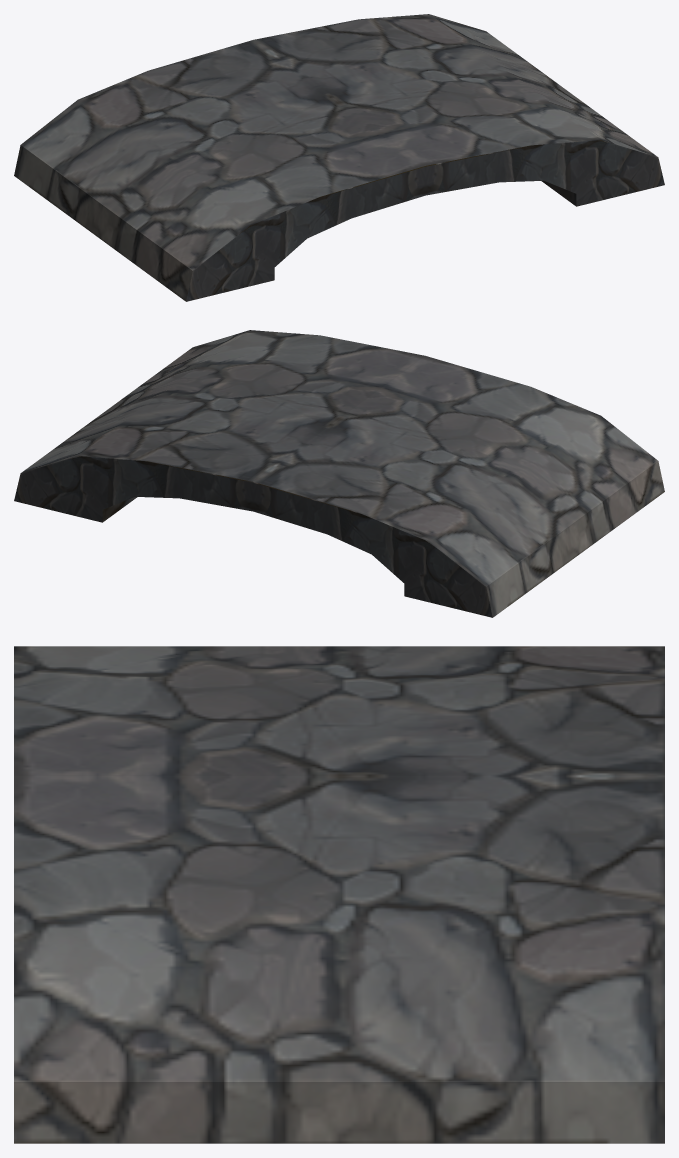
Rendered from bridge.fbx.
3 renders of one model, top to bottom at view 1: azimuth 30°, elevation 25°; view 2: azimuth 150°, elevation 25°; view 3: azimuth 270°, elevation 25°, orthographic. The views are drawn at different scales.
Visible parts, largest first — view 1: polySurface28_polySurface32_polySurface32; view 2: polySurface28_polySurface32_polySurface32; view 3: polySurface28_polySurface32_polySurface32.
Boxes of the visible parts, x1,y1,x2,y2 form: polySurface28_polySurface32_polySurface32: [14, 14, 664, 301]; polySurface28_polySurface32_polySurface32: [14, 330, 664, 617]; polySurface28_polySurface32_polySurface32: [14, 646, 664, 1143].
Bounding box in the file's own units: 10.75 × 1.67 × 6.7.
